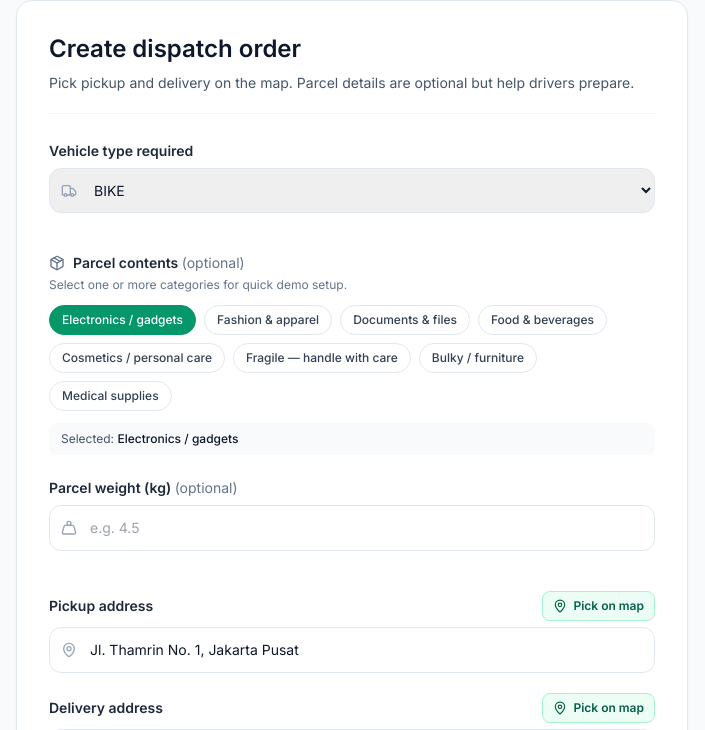
CreateOrderForm › shows friendly validation summary when required fields are cleared
Clear the field labelled "Pickup address" at (352, 650), box [49,627,655,673]
(page scrolled)
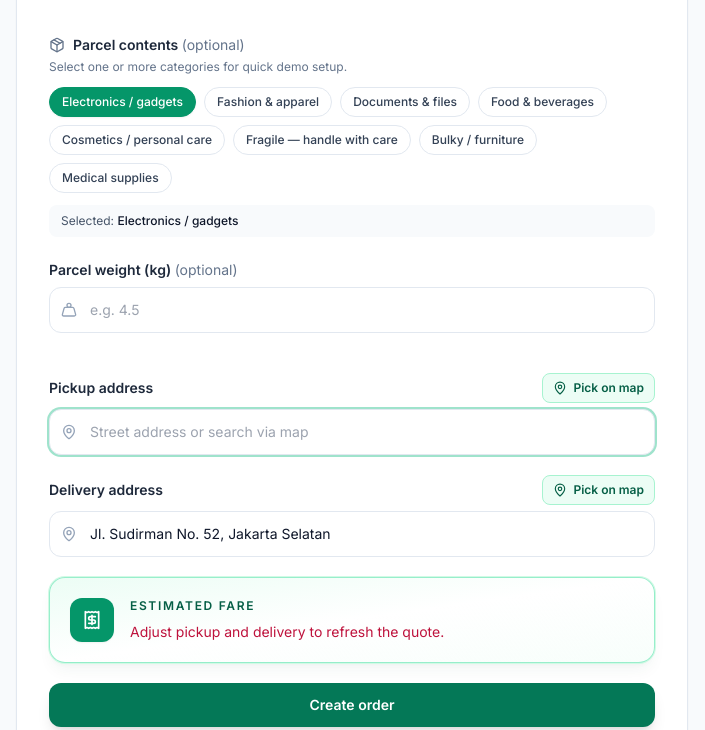
Clear the field labelled "Delivery address" at (352, 534), box [49,511,655,557]
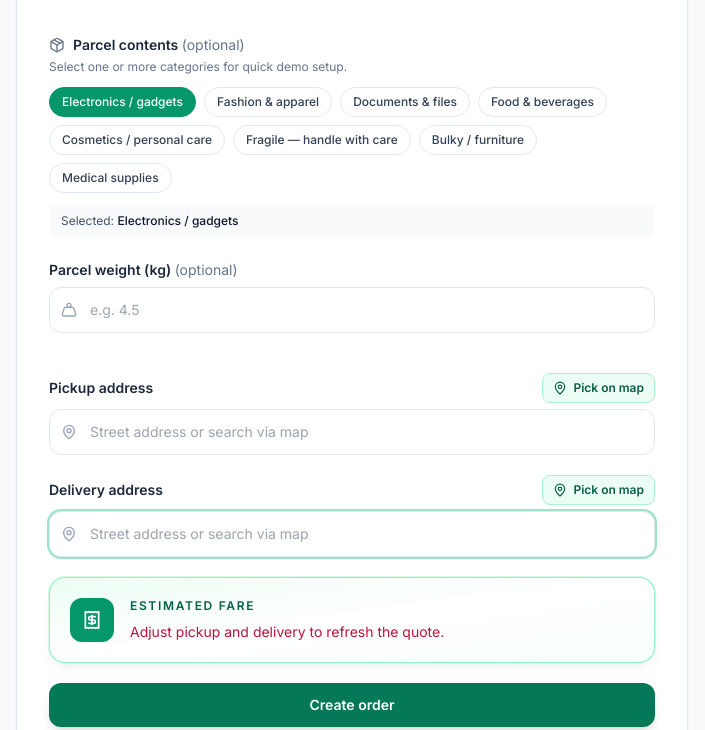
Click the button "Create order" at (352, 705), box [49,683,655,727]
(page scrolled)
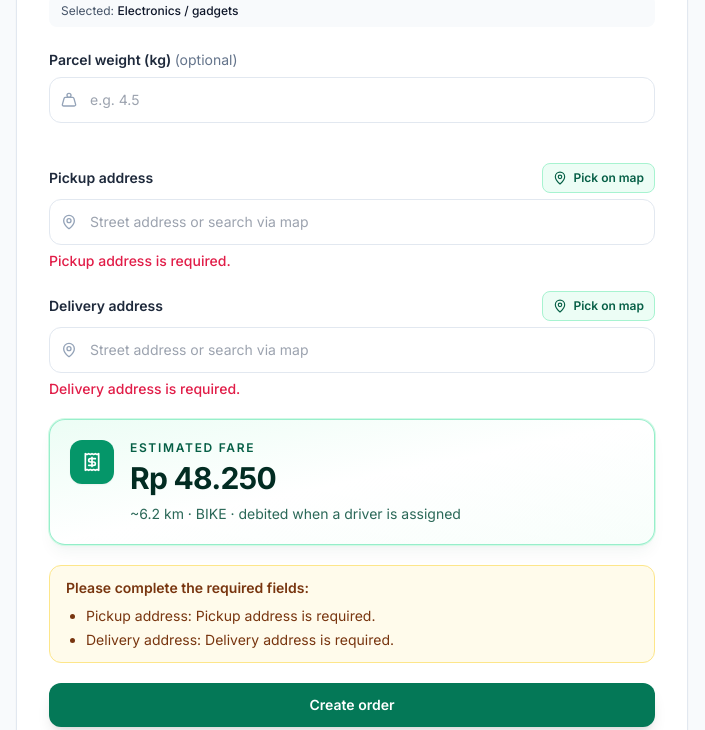
Check: the text "Please complete the required fields:" is shown, box [66,579,309,596]
Check: the list item "Pickup address: Pickup address is required." is shown, box [86,607,376,624]
Check: the list item "Delivery address: Delivery address is required." is shown, box [86,631,394,648]
